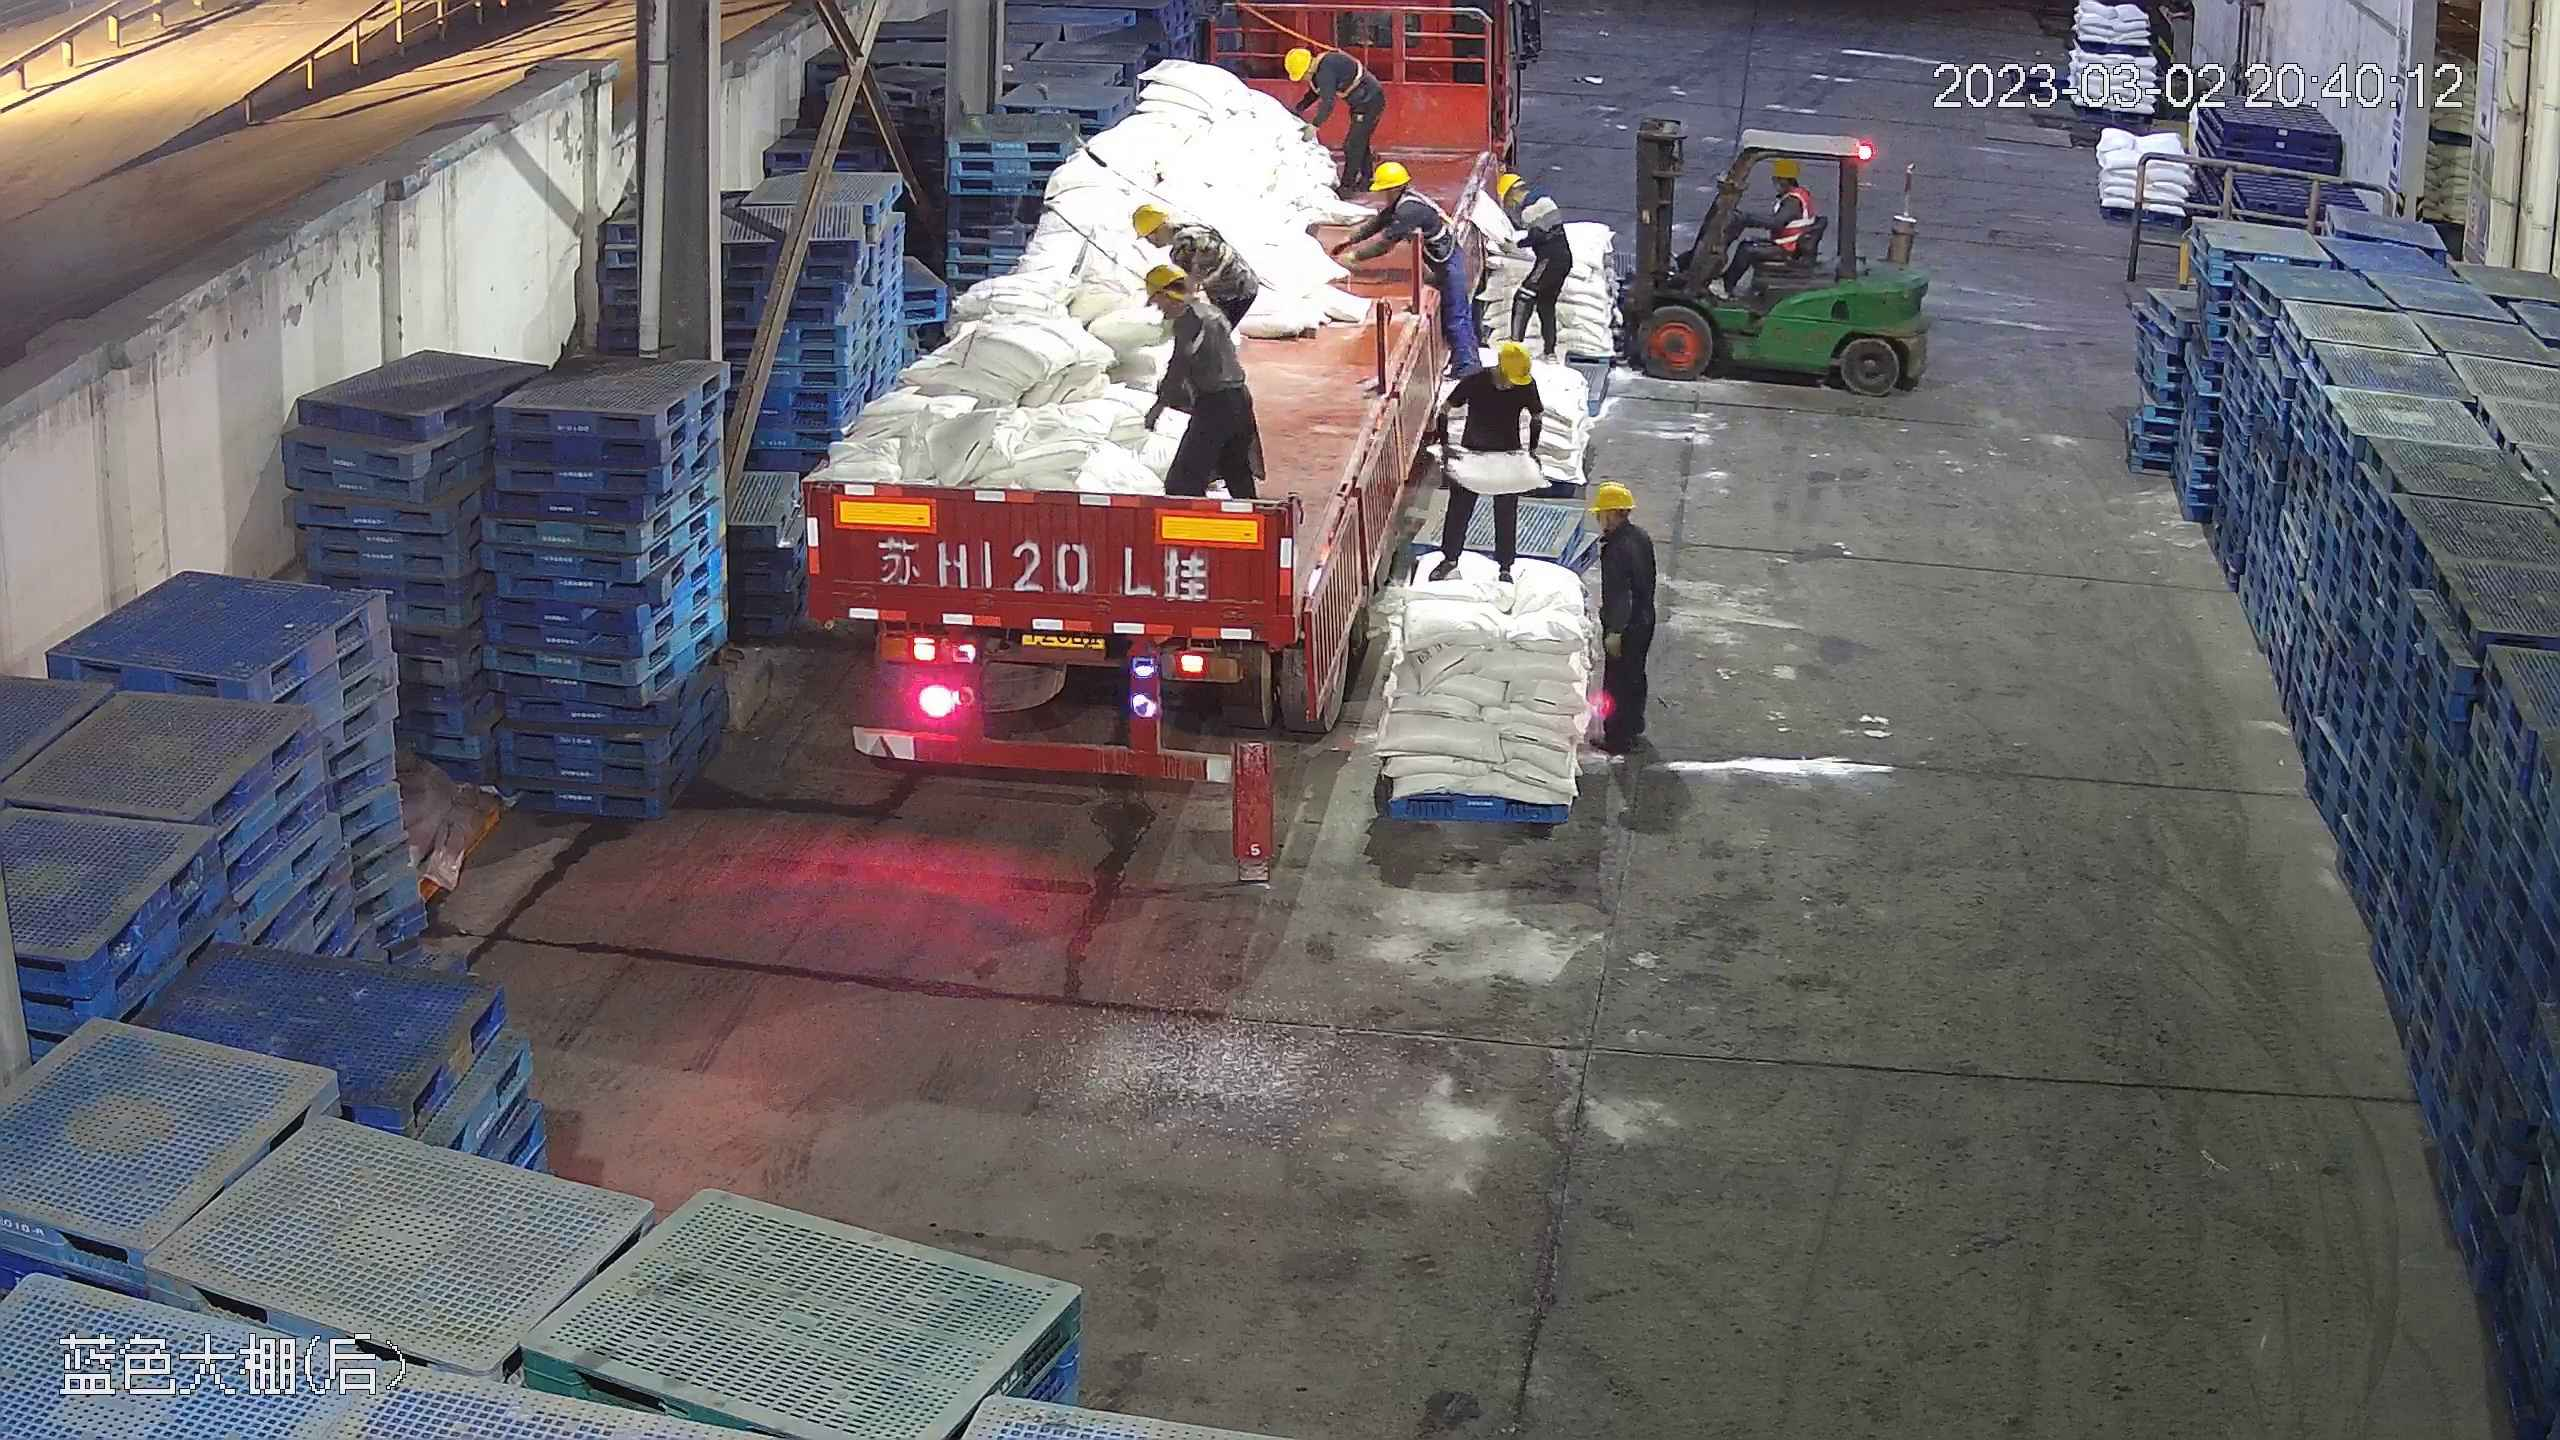belt: (1172, 292, 1253, 365), (1175, 222, 1242, 284), (1406, 189, 1466, 254), (1317, 50, 1369, 103)
head: (1451, 334, 1543, 417), (1141, 265, 1232, 346), (1582, 479, 1658, 571), (1362, 160, 1451, 236), (1129, 201, 1218, 266), (1496, 171, 1562, 240), (1285, 43, 1359, 97), (1766, 156, 1815, 214)
helmet: (1492, 336, 1538, 386), (1142, 262, 1189, 302), (1588, 480, 1636, 515), (1127, 200, 1168, 241), (1367, 159, 1411, 193), (1283, 43, 1315, 81), (1493, 170, 1526, 201), (1774, 155, 1802, 178)
people: (1335, 157, 1486, 404), (1137, 262, 1264, 509), (1429, 338, 1551, 583), (1580, 474, 1663, 760), (1281, 38, 1384, 200), (1490, 172, 1574, 359), (1720, 155, 1820, 294)
truck: (802, 12, 1479, 793)
